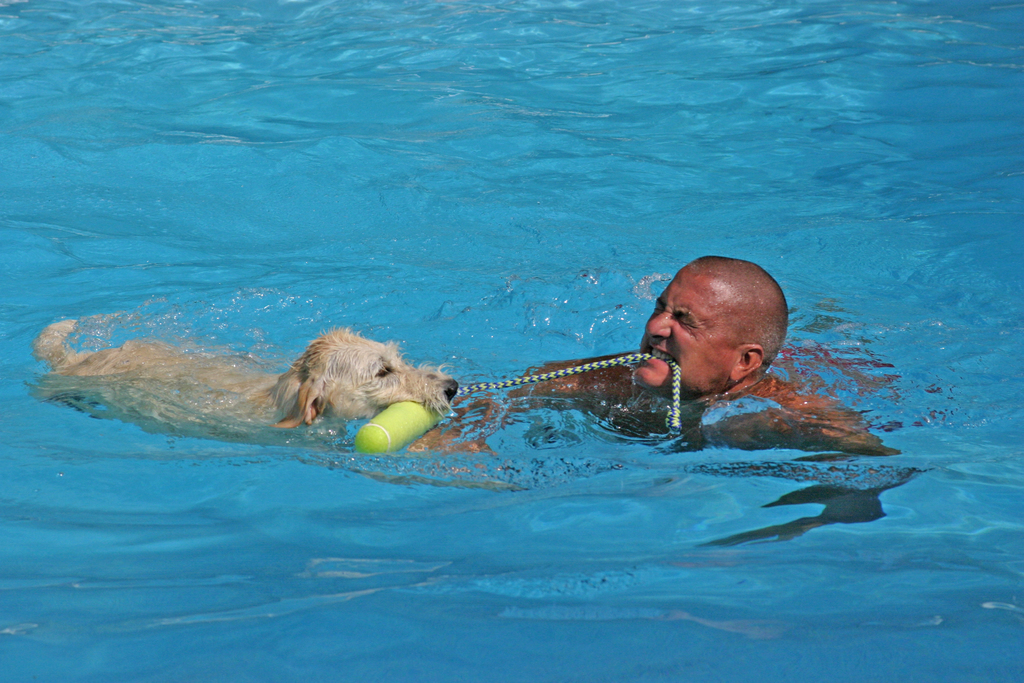Person: (505, 254, 903, 457)
